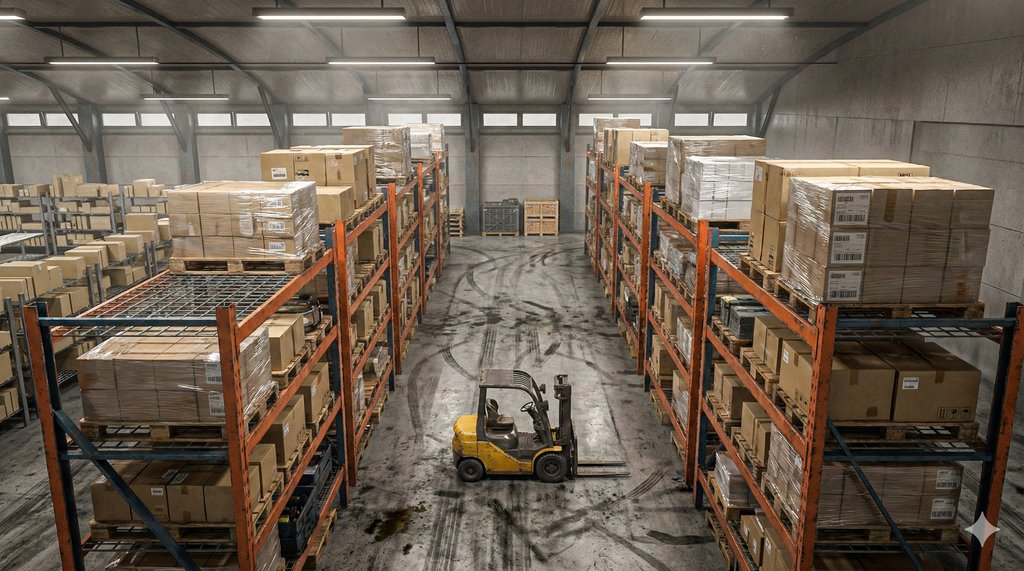empty_shelf: (62, 248, 283, 326), (2, 206, 49, 261)
forklift: (429, 359, 628, 494)
pallet: (821, 421, 986, 452), (773, 280, 815, 323), (739, 347, 780, 384), (769, 385, 806, 425), (740, 256, 769, 286), (709, 320, 734, 347)
spill: (341, 496, 703, 558), (445, 302, 620, 346)
